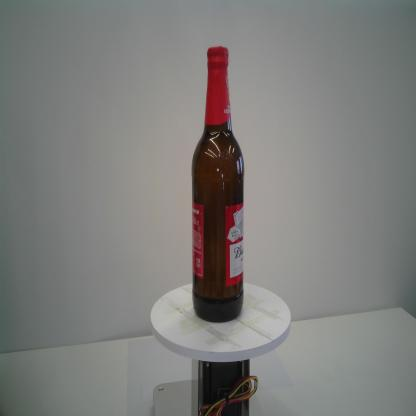Alcohol: (191, 44, 245, 324)
